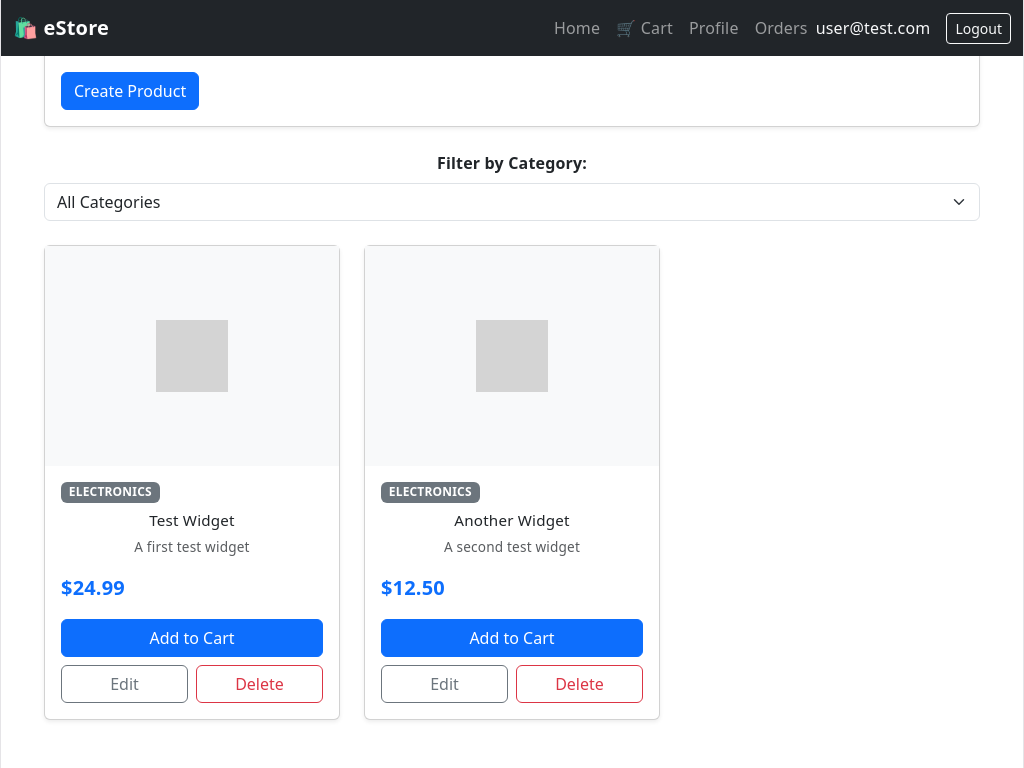
Cart integration: adding products from the Home page › Header cart badge increments when a product is added from Home
(page scrolled)
Click the button "Add to Cart" below "24.99": {"x": 192, "y": 638} [61,619,323,657]
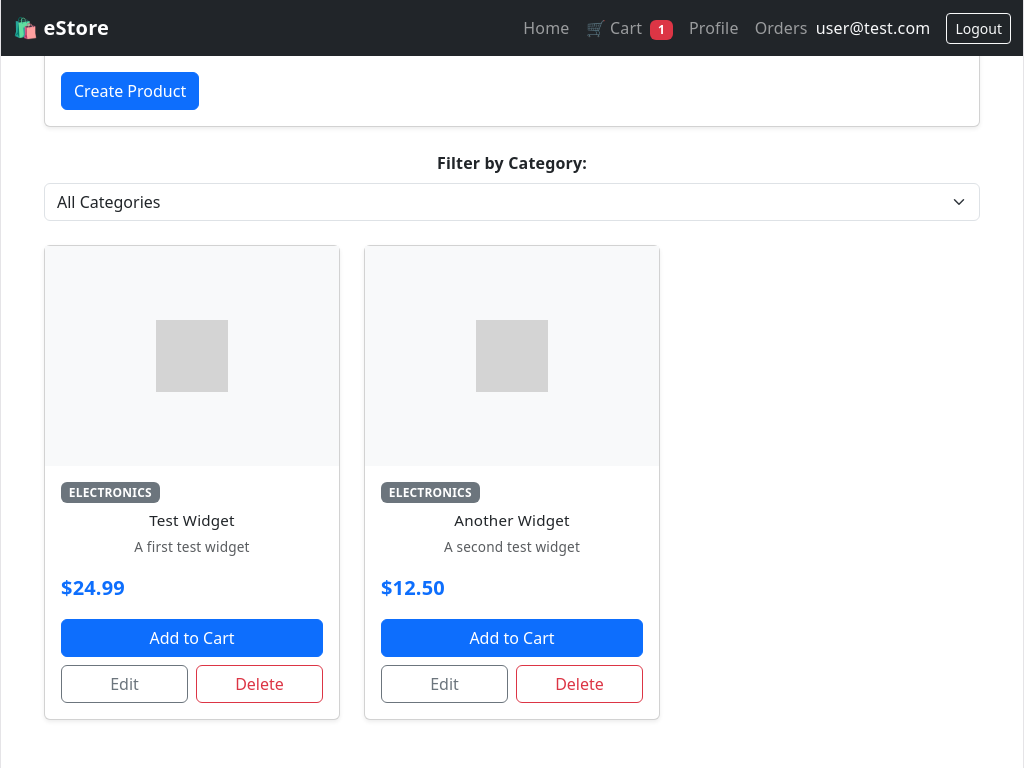
Expected: the text "1" is shown, [650,20,673,40]
